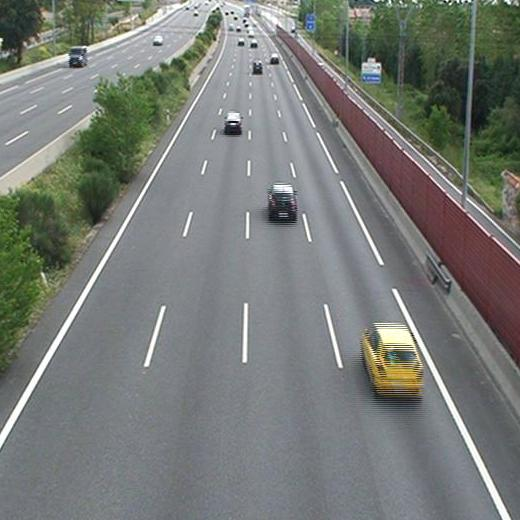car: (362, 325, 422, 394), (269, 185, 297, 216), (225, 112, 242, 131), (252, 61, 263, 71), (269, 53, 279, 63), (250, 38, 258, 46)
